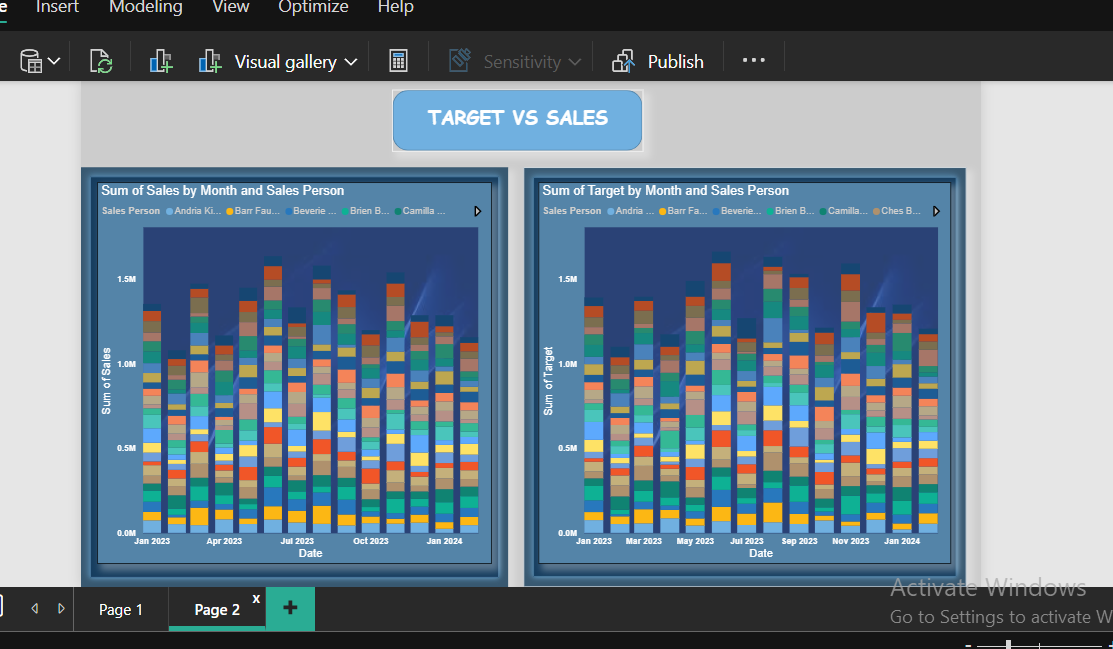

The dashboard page shown, as its layout file describes it:
{"tool":"powerbi","page":{"name":"Page 2","canvas":[1280,720],"ordinal":1},"visuals":[{"type":"shape","box":[629.9,123.1,629.9,596.5],"z":0},{"type":"shape","box":[0,123.1,607,596.5],"z":1000},{"type":"shape","box":[442.2,12.5,356.7,87.6],"z":2000},{"type":"textbox","box":[442.2,27.1,356.7,56.3],"z":3000},{"type":"columnChart","title":"Sum of Sales by Month and Sales Person","fields":{"Category":["Actual.Date"],"Y":["Actual.Sales"],"Series":["Actual.Sales Person"]},"box":[22.9,143.9,561.1,542.3],"z":4000},{"type":"columnChart","title":"Sum of Target by Month and Sales Person","fields":{"Category":["Targets.Date"],"Y":["Targets.Target"],"Series":["Targets.Sales Person"]},"box":[650.8,143.9,586.1,542.3],"z":5000}]}

Visuals, with their boxes on the page's 1280x720 design canvas (x1, y1, x2, y2). These are canvas units, not pixel positions in the 1113x649 screenshot, which may show the page scaled, cropped or inside an application window:
shape: l=630, t=123, r=1260, b=720
shape: l=0, t=123, r=607, b=720
shape: l=442, t=12, r=799, b=100
textbox: l=442, t=27, r=799, b=83
"Sum of Sales by Month and Sales Person" columnChart: l=23, t=144, r=584, b=686
"Sum of Target by Month and Sales Person" columnChart: l=651, t=144, r=1237, b=686
